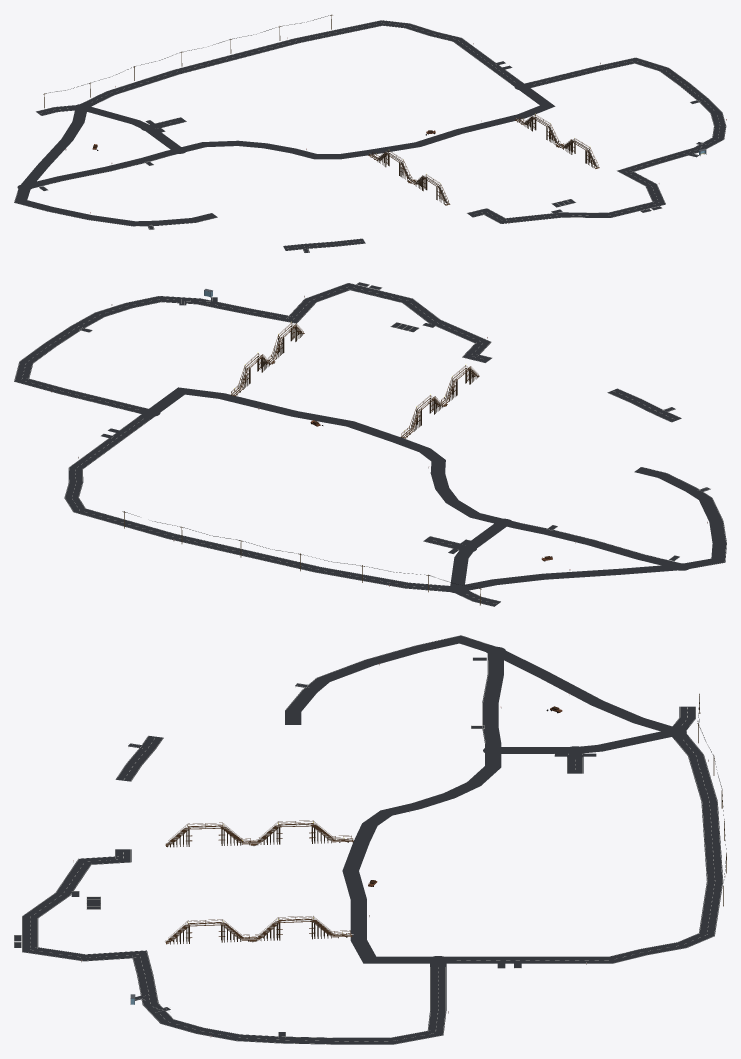
File: tf-roads-p4.glb
3 views of the same model, one above another, from view 1: azimuth 30°, elevation 25°; view 2: azimuth 150°, elevation 25°; view 3: azimuth 270°, elevation 25° (orthographic). The views are drawn at different scales.
Parts seen in each view (by area): view 1: tf-roads-p4; view 2: tf-roads-p4; view 3: tf-roads-p4.
Boxes of the visible parts, x1,y1,x2,y2 form: tf-roads-p4: (14,14,726,253); tf-roads-p4: (14,282,726,606); tf-roads-p4: (14,635,726,1044).
Bounding box in the file's own units: 354 × 8.66 × 260.
